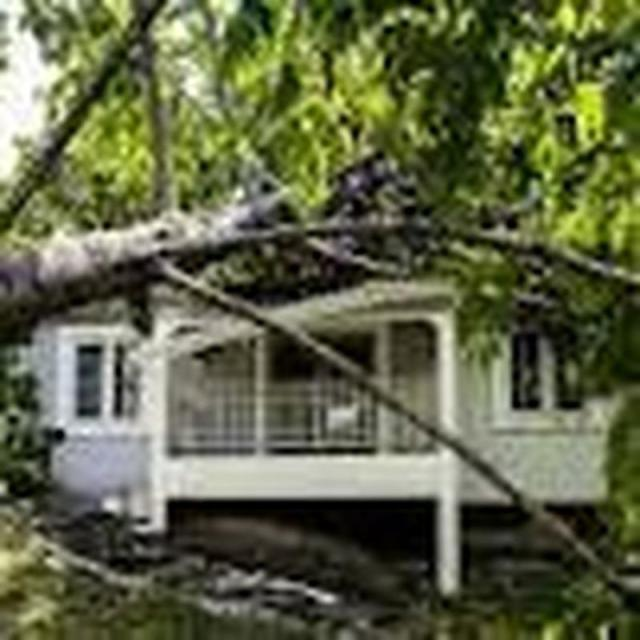tree_fallen: (10, 1, 640, 431)
